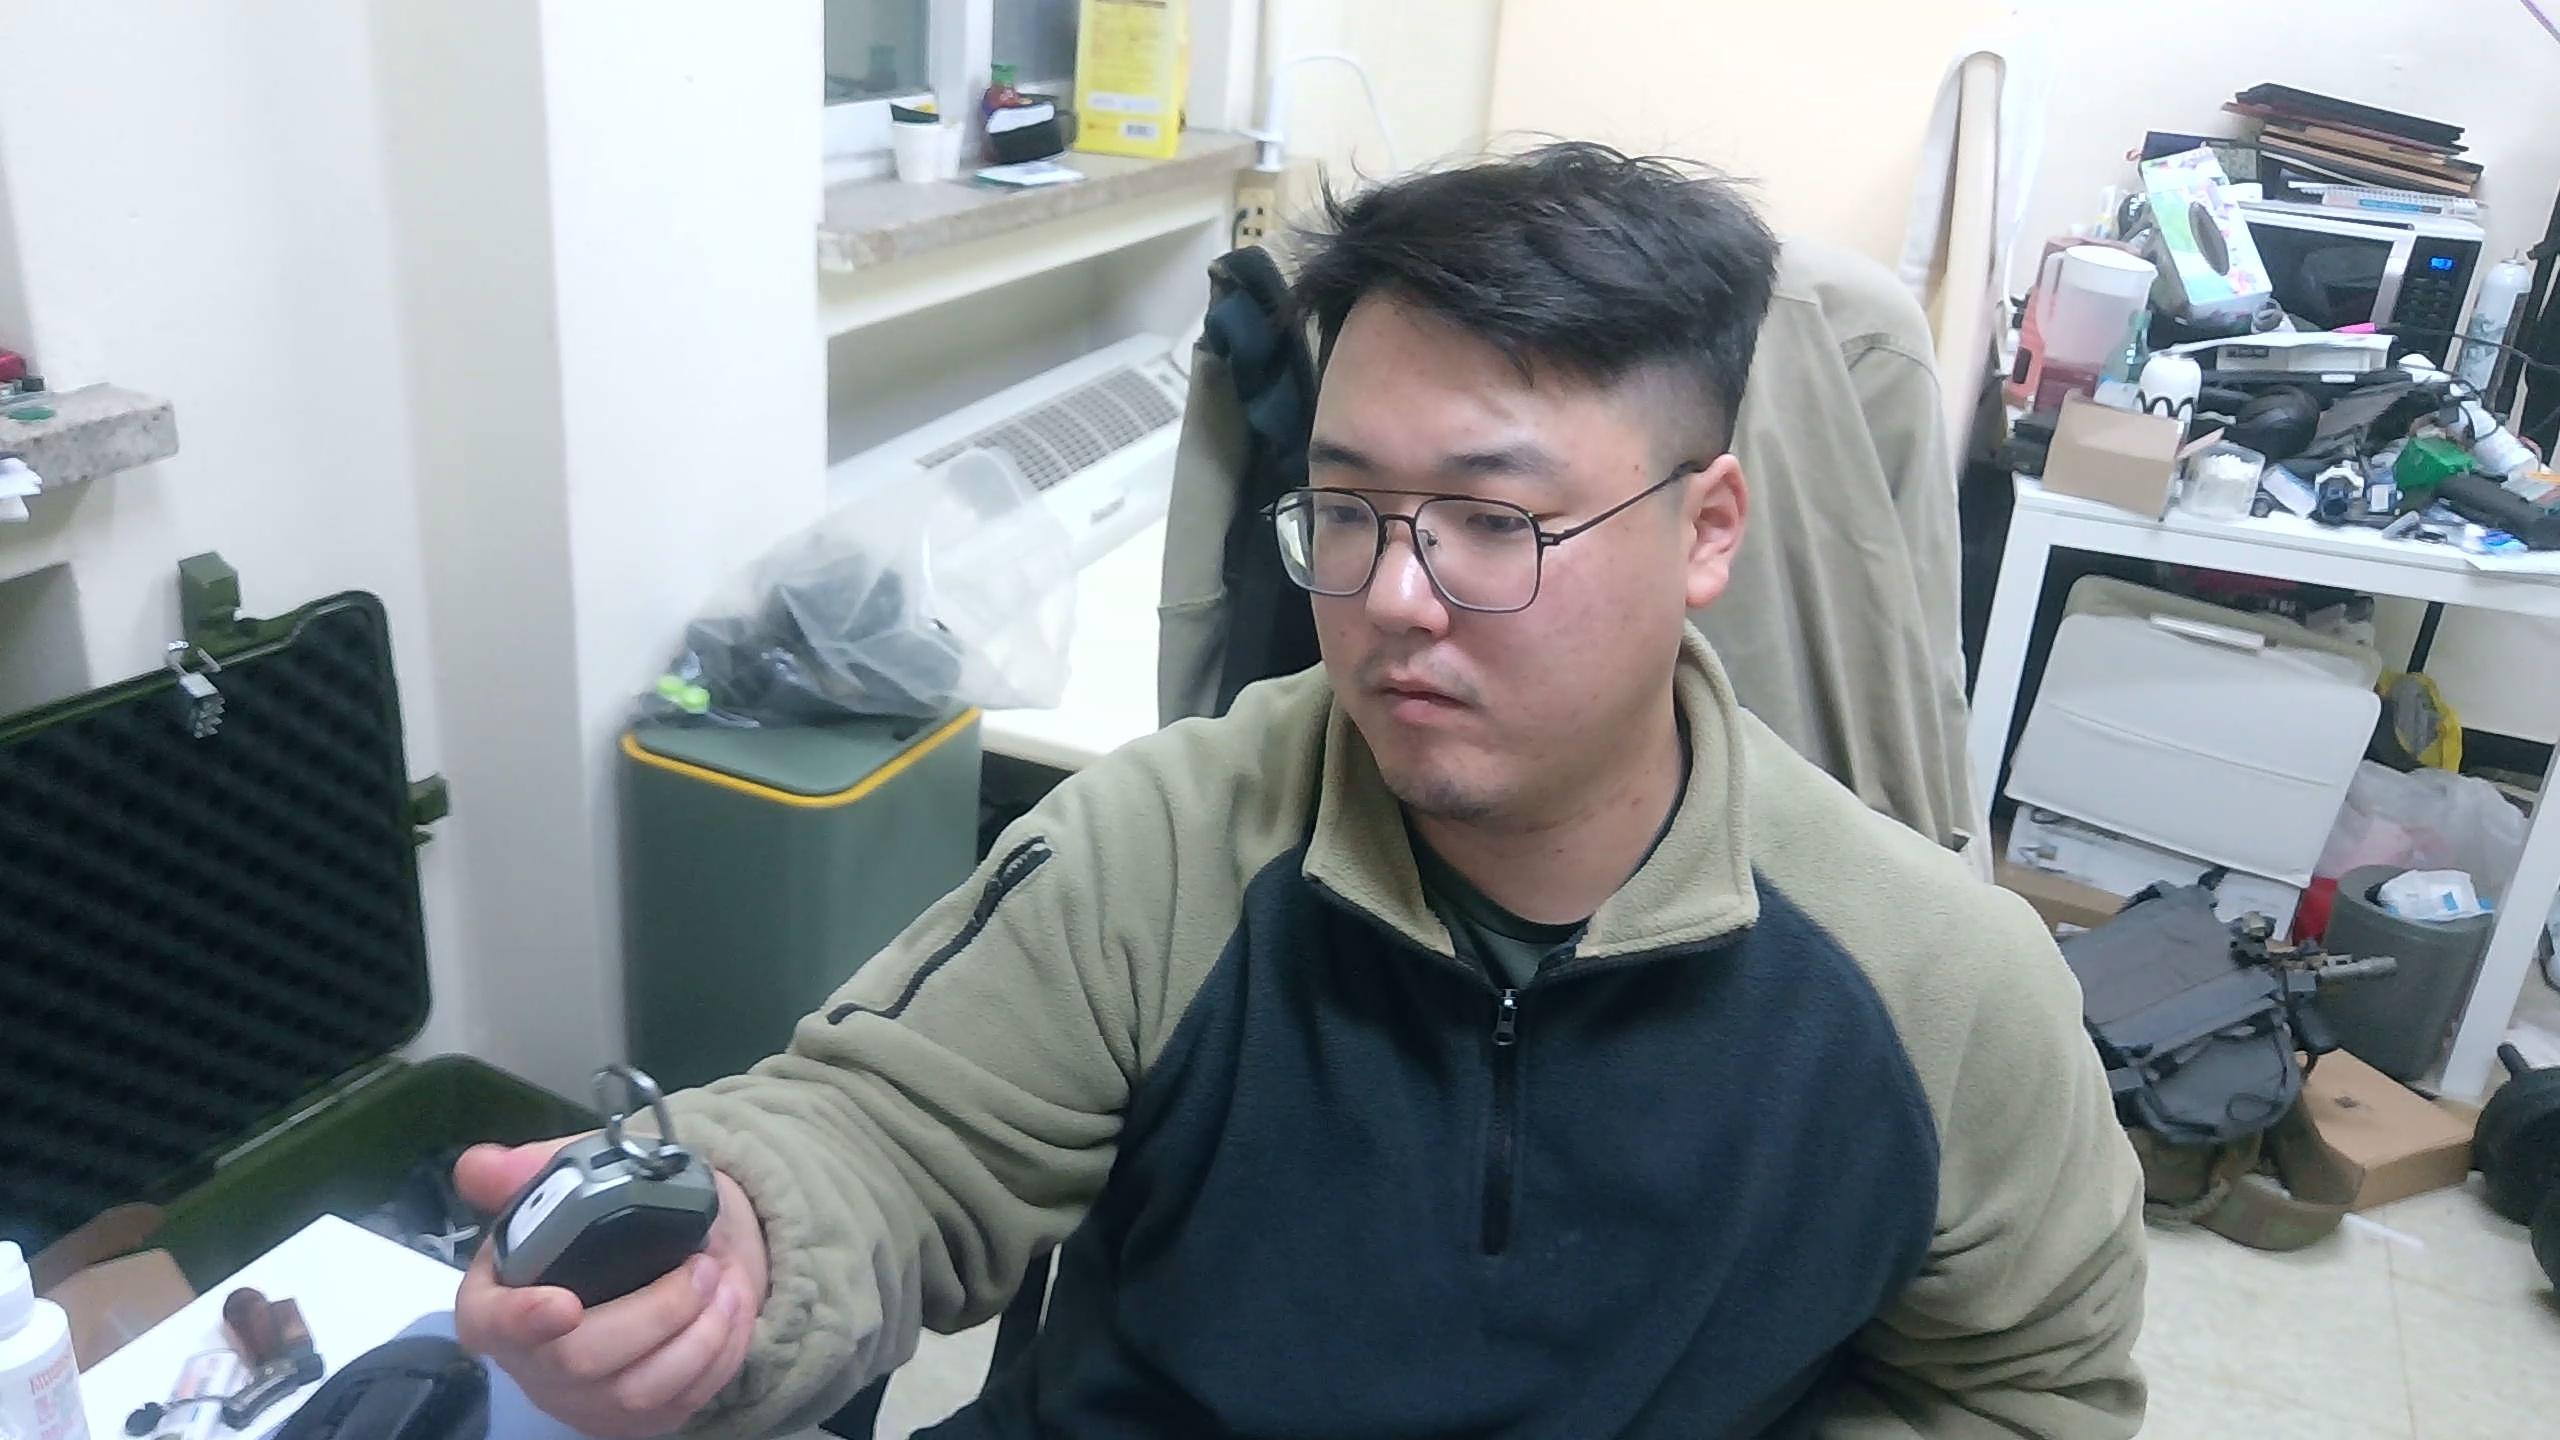blue_pliers: (487, 1060, 723, 1312)
